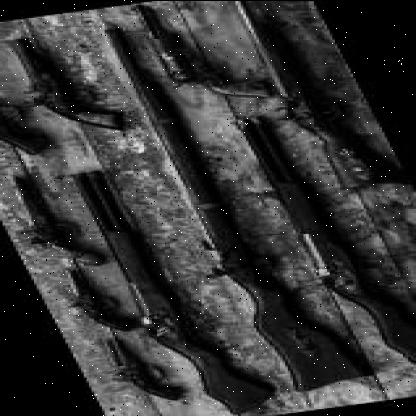rifle: (84, 20, 338, 392), (58, 166, 262, 416)
